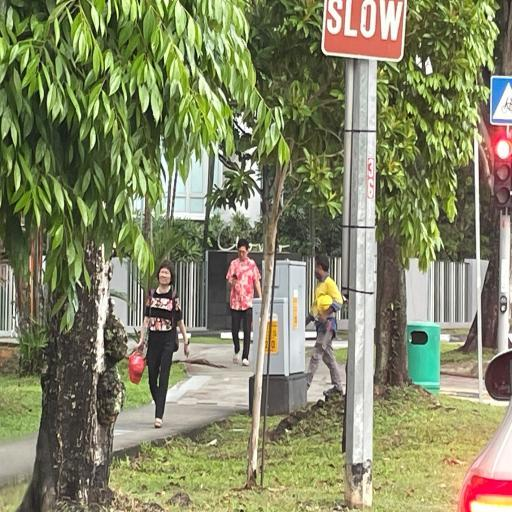person_left: (306, 255, 344, 395)
